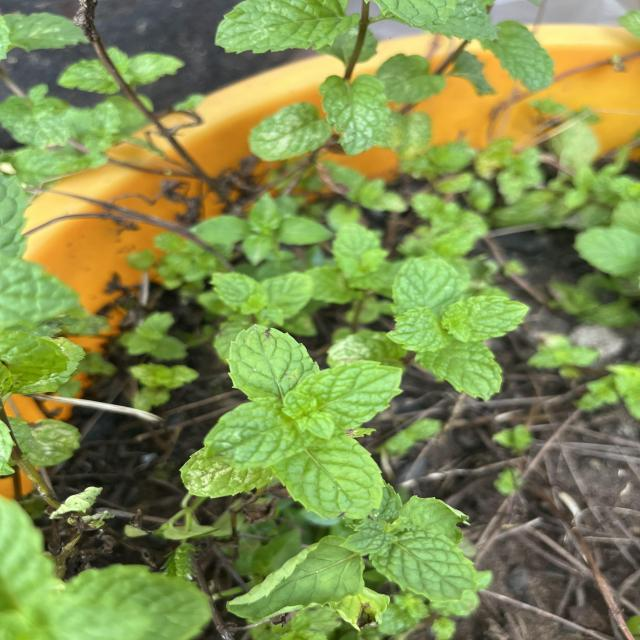Mentha spicata: (269, 436, 388, 522), (368, 527, 482, 604), (295, 359, 405, 437), (212, 0, 362, 56), (226, 323, 322, 401)
